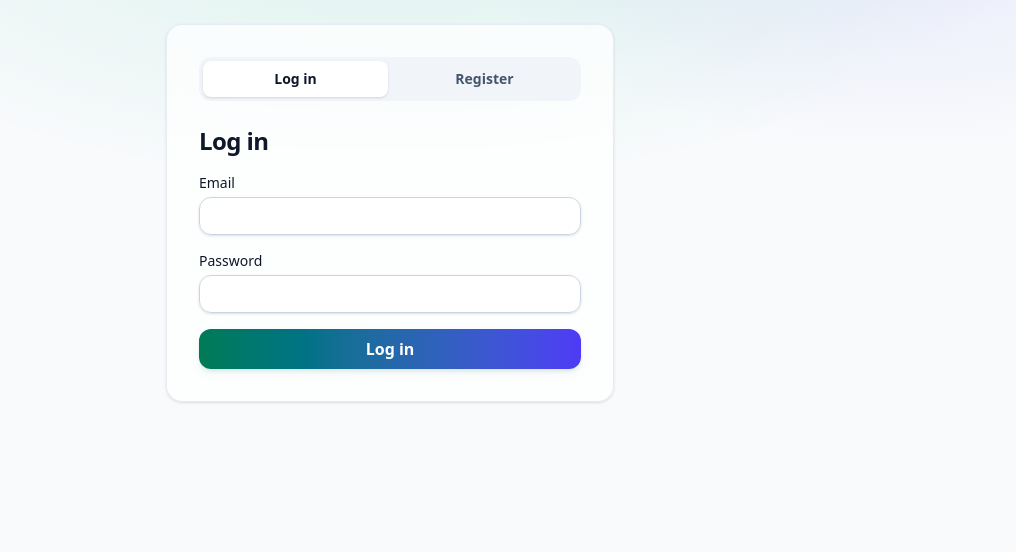
Test: register shows the API error message on failure
Click the tab "Register": (484, 79) [392,61,577,97]
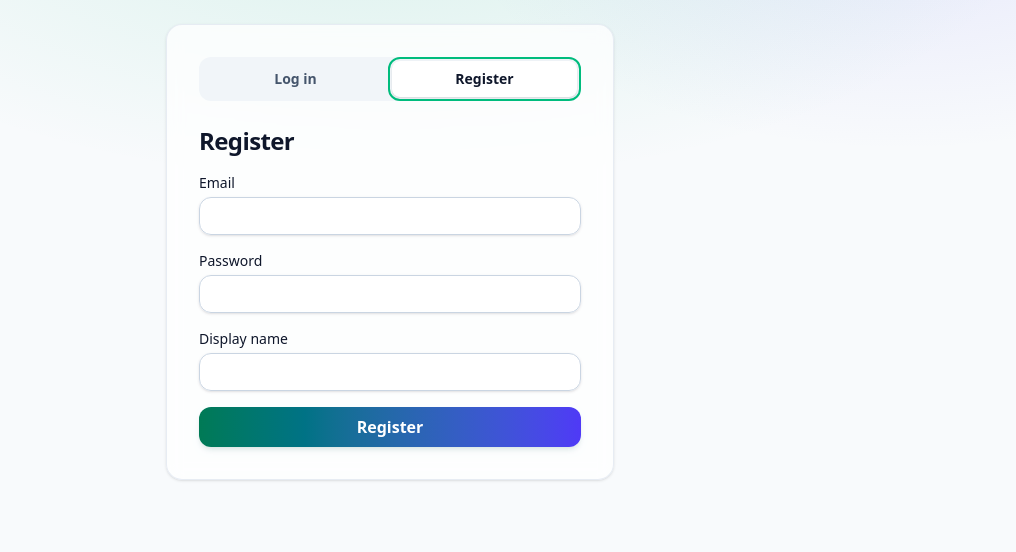
In the field labelled "Email": (390, 216) [199,197,581,235], type "n@b.c"
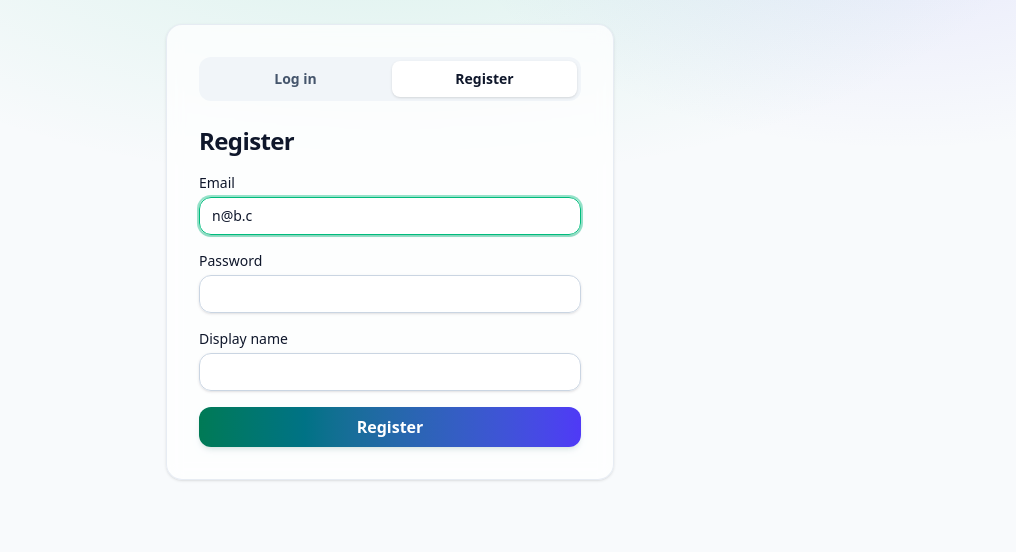
In the password field labelled "Password": (390, 294) [199,275,581,313], type "pw"
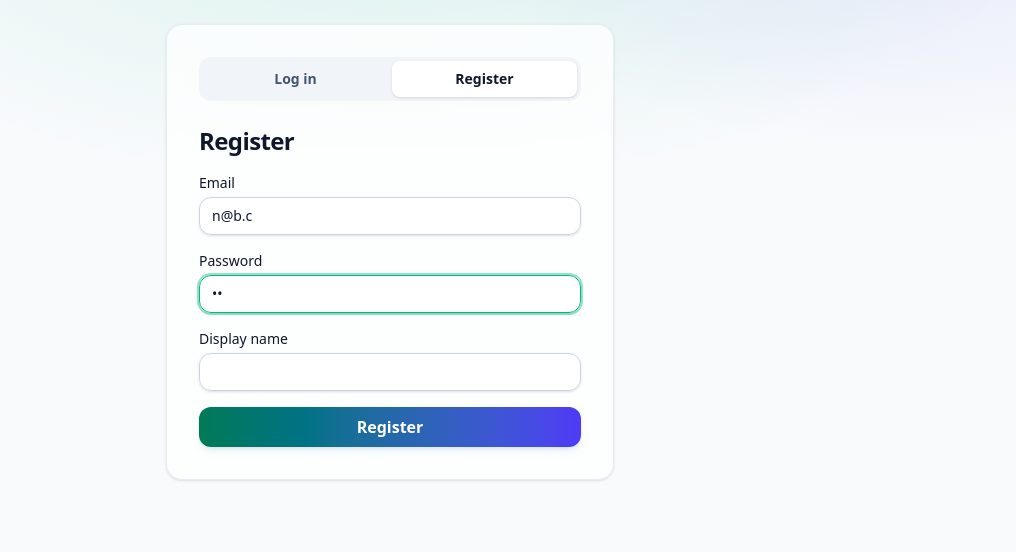
In the field labelled "Display name": (390, 372) [199,353,581,391], type "Neo"
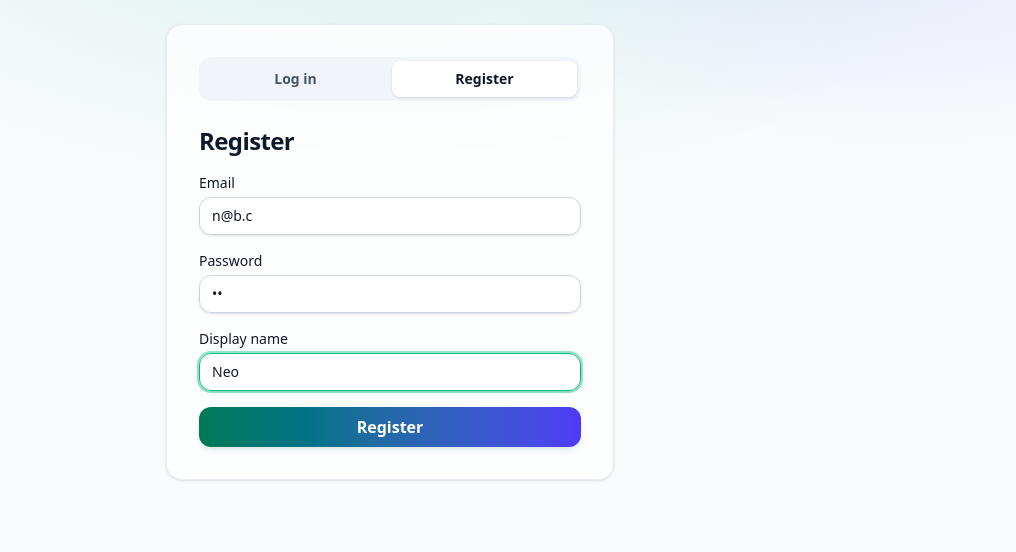
Click the button "Register": (390, 427) [199,407,581,447]
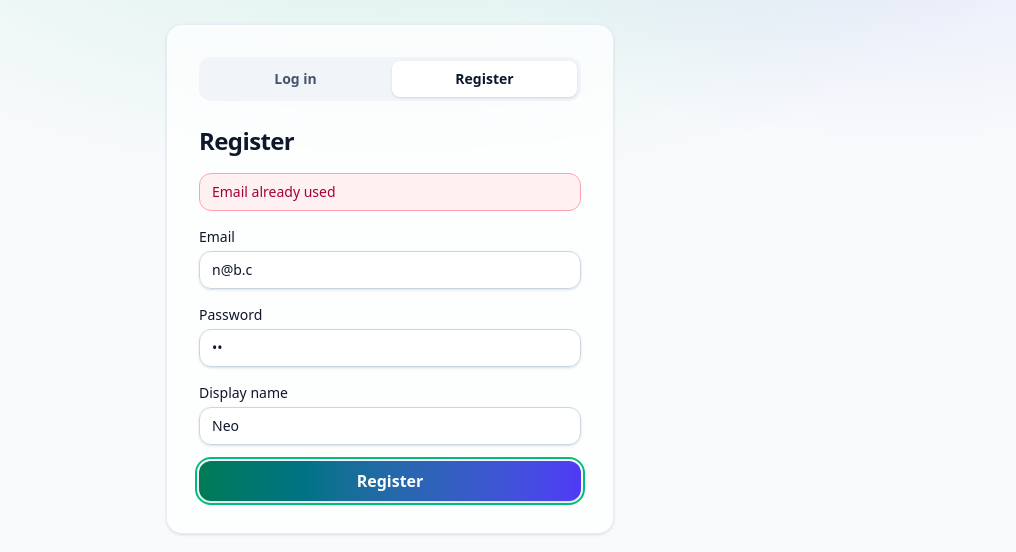
Now the message reads "Email already used", box [212,182,336,201]
